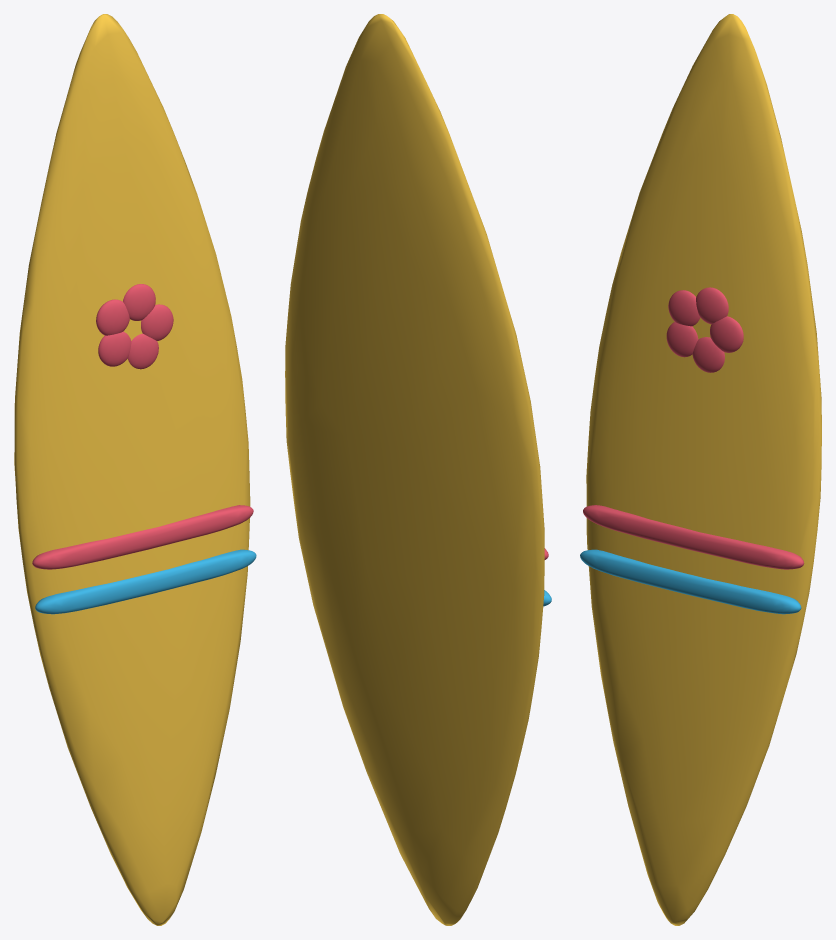
Rendered from deco_tabla_surf.glb.
3 views of the same model, side by side, from view 1: azimuth 30°, elevation 25°; view 2: azimuth 150°, elevation 25°; view 3: azimuth 330°, elevation 25° (orthographic). The views are drawn at different scales.
Parts seen in each view (by area): view 1: tabla surf.001, franja surf 0.001, franja surf 1.001, hibisco 2.001, hibisco 3.001, hibisco 1.001, hibisco 0.001, hibisco 4.001; view 2: tabla surf.001; view 3: tabla surf.001, franja surf 0.001, franja surf 1.001, hibisco 0.001, hibisco 1.001, hibisco 2.001, hibisco 4.001, hibisco 3.001.
Boxes of the visible parts, x1=… form: tabla surf.001: x1=14, y1=14, x2=250, y2=925; franja surf 0.001: x1=35, y1=549, x2=256, y2=614; franja surf 1.001: x1=32, y1=505, x2=253, y2=569; hibisco 2.001: x1=96, y1=299, x2=129, y2=335; hibisco 3.001: x1=98, y1=331, x2=131, y2=366; hibisco 1.001: x1=123, y1=284, x2=155, y2=320; hibisco 0.001: x1=141, y1=304, x2=173, y2=340; hibisco 4.001: x1=127, y1=333, x2=158, y2=369; tabla surf.001: x1=285, y1=14, x2=544, y2=925; tabla surf.001: x1=586, y1=14, x2=821, y2=925; franja surf 0.001: x1=580, y1=549, x2=801, y2=614; franja surf 1.001: x1=583, y1=505, x2=804, y2=569; hibisco 0.001: x1=710, y1=316, x2=743, y2=352; hibisco 1.001: x1=696, y1=287, x2=728, y2=324; hibisco 2.001: x1=668, y1=290, x2=700, y2=326; hibisco 4.001: x1=692, y1=337, x2=724, y2=372; hibisco 3.001: x1=666, y1=322, x2=698, y2=357.
Size of the model in its own units: 0.3961 by 1.42 by 0.1838.
